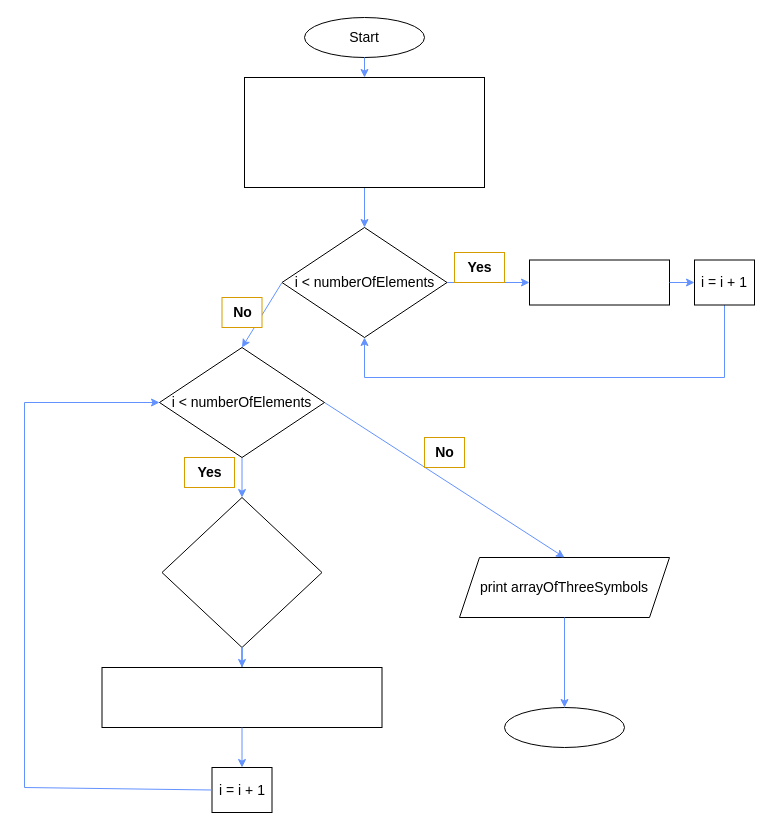
Image size: 772x830. Some labels were removed from this diagram. Here are the shapes that lost their labels. From the top down, the box of each, then its label:
(244, 76, 484, 188): numberOfElements arrayGiven arrayOfThreeSymbols length = 4 i = 0
(528, 259, 670, 305): input arrayGiven[i]
(161, 496, 322, 648): arrayGiven[i] < length
(101, 666, 382, 728): arrayOfThreeSymbols = arrayOfThreeSymbols + arrayGiven[i]
(504, 706, 624, 748): End
